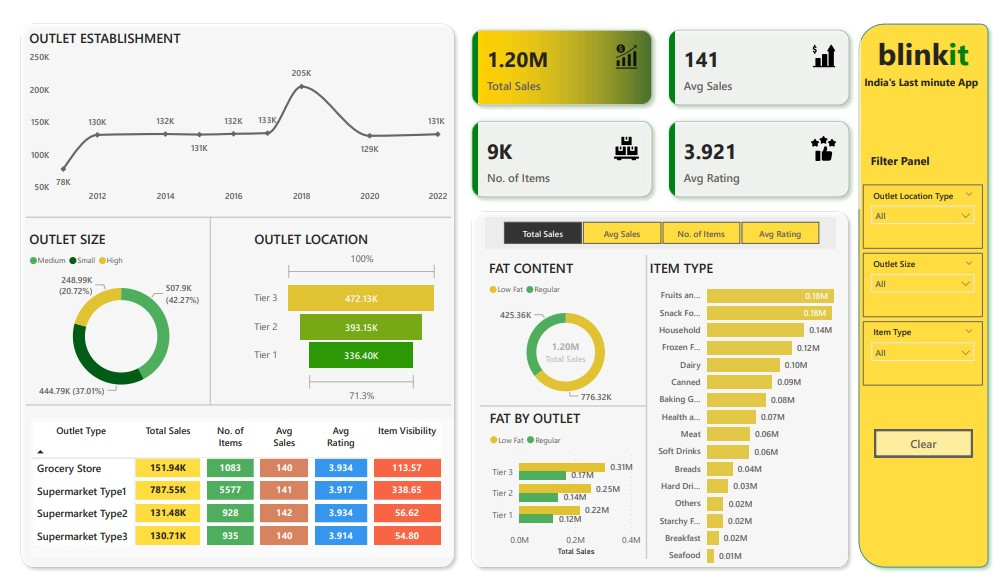

Layout of this report page (visuals, bound fields, positions):
{"tool":"powerbi","page":{"name":"Page 1","canvas":[1400,800],"ordinal":0},"visuals":[{"type":"shape","box":[11.4,12.9,631.4,787.1],"z":0},{"type":"textbox","box":[1230.4,28.1,153.5,76.1],"z":1000,"group":"g1"},{"type":"cardVisual","fields":{"Data":["BlinkIT Grocery Data.Total Sales"]},"box":[735.7,447.1,112.9,78.6],"z":1000},{"type":"shape","box":[1200,12.9,200,787.1],"z":2000},{"type":"textbox","box":[1211.4,89,187.8,39.3],"z":2000,"group":"g1"},{"type":"cardVisual","fields":{"Data":["BlinkIT Grocery Data.Total Sales","BlinkIT Grocery Data.Avg Sales","BlinkIT Grocery Data.no of items","BlinkIT Grocery Data.avg rating"]},"box":[642.9,12.9,568.6,270],"z":3000},{"type":"group","id":"g1","title":"Group 1","box":[1211.4,28.1,187.8,100.2],"z":4000},{"type":"shape","box":[651.4,278.6,550,521.4],"z":5000},{"type":"donutChart","title":"FAT CONTENT","fields":{"Y":["BlinkIT Grocery Data.Total Sales"],"Category":["BlinkIT Grocery Data.Item Fat Content"]},"box":[678.6,354.3,227.1,212.9],"z":6000},{"type":"slicer","fields":{"Values":["Metrics.Metrics"]},"box":[678.8,295,497.5,45],"z":7000},{"type":"clusteredBarChart","title":"FAT BY OUTLET","fields":{"Y":["BlinkIT Grocery Data.Total Sales"],"Category":["BlinkIT Grocery Data.Outlet Location Type"],"Series":["BlinkIT Grocery Data.Item Fat Content"]},"box":[680,567.1,227.1,212.9],"z":8000},{"type":"shape","box":[790,348.6,234.3,431.4],"z":9000},{"type":"shape","box":[671.4,467.1,234.3,191.4],"z":10000},{"type":"barChart","title":"ITEM TYPE","fields":{"Y":["BlinkIT Grocery Data.Total Sales"],"Category":["BlinkIT Grocery Data.Item Type"]},"box":[907.1,354.3,292.9,445.7],"z":11000},{"type":"lineChart","title":"OUTLET ESTABLISHMENT","fields":{"Y":["BlinkIT Grocery Data.Total Sales"],"Category":["BlinkIT Grocery Data.Outlet Establishment Year"]},"box":[27.1,28.6,602.9,254.3],"z":12000},{"type":"shape","box":[27.1,465.7,602.9,191.4],"z":13000},{"type":"donutChart","title":"OUTLET SIZE","fields":{"Y":["BlinkIT Grocery Data.Total Sales"],"Category":["BlinkIT Grocery Data.Outlet Size"]},"box":[27.1,312.9,270,250],"z":14000},{"type":"funnel","title":"OUTLET LOCATION","fields":{"Y":["BlinkIT Grocery Data.Total Sales"],"Category":["BlinkIT Grocery Data.Outlet Location Type"]},"box":[345.7,312.9,270,250],"z":15000},{"type":"shape","box":[171.4,294.3,234.3,268.6],"z":16000},{"type":"shape","box":[27.1,200,602.9,191.4],"z":17000},{"type":"pivotTable","fields":{"Rows":["BlinkIT Grocery Data.Outlet Type"],"Values":["BlinkIT Grocery Data.Total Sales","BlinkIT Grocery Data.No. of Items","BlinkIT Grocery Data.Avg Sales","BlinkIT Grocery Data.Avg Rating","Sum(BlinkIT Grocery Data.Item Visibility)"]},"box":[32.9,581.4,601.4,195.7],"z":18000},{"type":"slicer","fields":{"Values":["BlinkIT Grocery Data.Outlet Location Type"]},"box":[1214.3,248.6,170,91.4],"z":19000},{"type":"slicer","fields":{"Values":["BlinkIT Grocery Data.Outlet Size"]},"box":[1214.3,345.7,170,91.4],"z":20000},{"type":"slicer","fields":{"Values":["BlinkIT Grocery Data.Item Type"]},"box":[1214.3,442.9,170,91.4],"z":21000},{"type":"textbox","box":[1220,200,164,32],"z":22000},{"type":"actionButton","box":[1230,595.7,140,40],"z":23000}]}

Visuals, with their boxes in screenshot pixels (x1, y1, x2, y2), scaled from the page's 1400x800 canvas onto the 1007x583 screenshot:
shape: region(8, 9, 462, 582)
textbox: region(885, 20, 995, 76)
cardVisual - BlinkIT Grocery Data.Total Sales: region(529, 326, 610, 383)
shape: region(863, 9, 1006, 582)
textbox: region(871, 65, 1006, 93)
cardVisual - BlinkIT Grocery Data.Total Sales x BlinkIT Grocery Data.Avg Sales: region(462, 9, 871, 206)
"Group 1" group: region(871, 20, 1006, 93)
shape: region(469, 203, 864, 582)
"FAT CONTENT" donutChart: region(488, 258, 651, 413)
slicer - Metrics.Metrics: region(488, 215, 846, 248)
"FAT BY OUTLET" clusteredBarChart: region(489, 413, 652, 568)
shape: region(568, 254, 737, 568)
shape: region(483, 340, 651, 480)
"ITEM TYPE" barChart: region(652, 258, 863, 582)
"OUTLET ESTABLISHMENT" lineChart: region(19, 21, 453, 206)
shape: region(19, 339, 453, 479)
"OUTLET SIZE" donutChart: region(19, 228, 214, 410)
"OUTLET LOCATION" funnel: region(249, 228, 443, 410)
shape: region(123, 214, 292, 410)
shape: region(19, 146, 453, 285)
pivotTable - BlinkIT Grocery Data.Outlet Type x BlinkIT Grocery Data.Total Sales: region(24, 424, 456, 566)
slicer - BlinkIT Grocery Data.Outlet Location Type: region(873, 181, 996, 248)
slicer - BlinkIT Grocery Data.Outlet Size: region(873, 252, 996, 319)
slicer - BlinkIT Grocery Data.Item Type: region(873, 323, 996, 389)
textbox: region(878, 146, 995, 169)
actionButton: region(885, 434, 985, 463)
